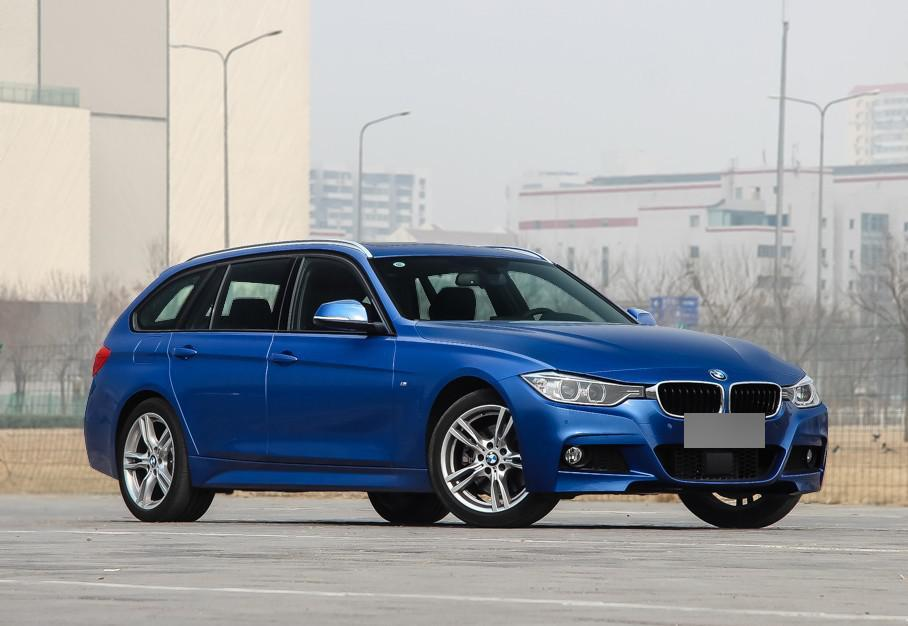Wagon: (83, 238, 830, 526)
